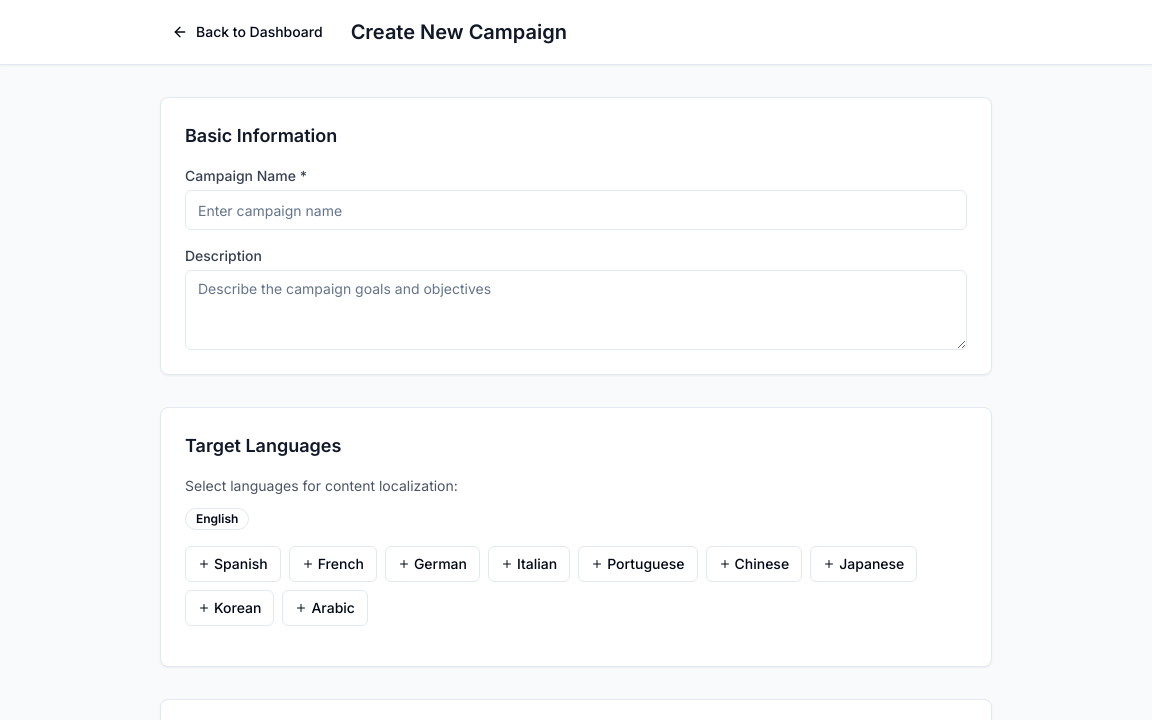
it: NewCampaignPage › enables submit button when name is provided
Type "Test Campaign" into the field labelled "Campaign Name *" at coordinates (576, 210), box [185,190,967,230]
(page scrolled)
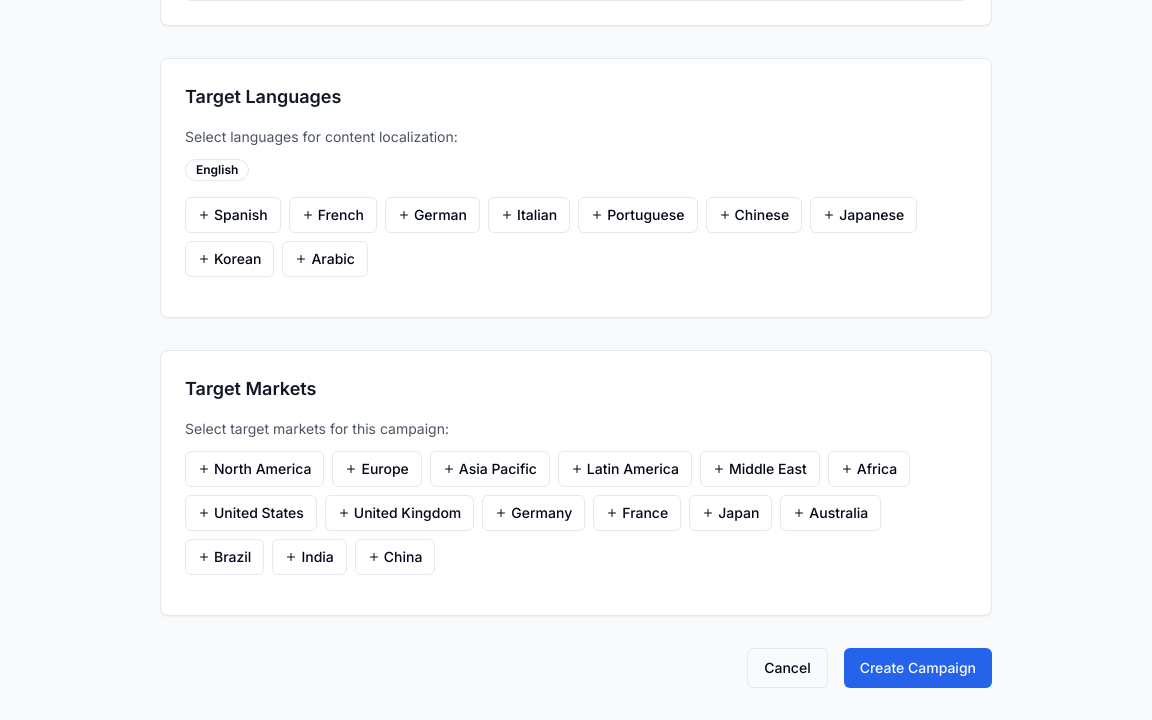
Result: the button "Create Campaign" is enabled at [844,648,992,688]
